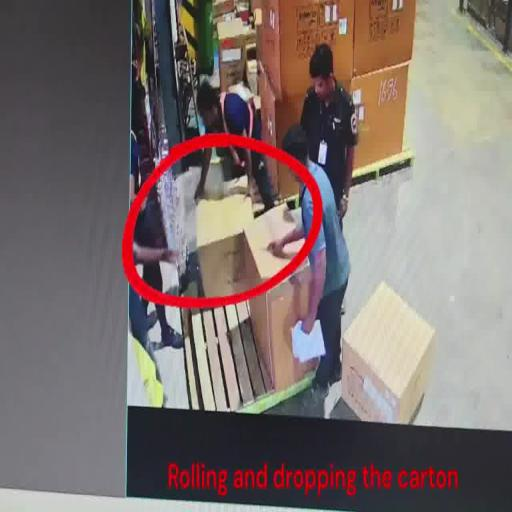carton: (196, 192, 320, 390), (338, 279, 436, 429), (254, 1, 355, 103), (256, 74, 308, 205), (350, 63, 409, 172), (353, 1, 418, 78)
forklift: (126, 0, 204, 409)
pallet: (179, 275, 330, 419), (280, 150, 415, 214)
person: (267, 122, 351, 391), (299, 43, 361, 231), (193, 81, 273, 211), (128, 194, 186, 356)
